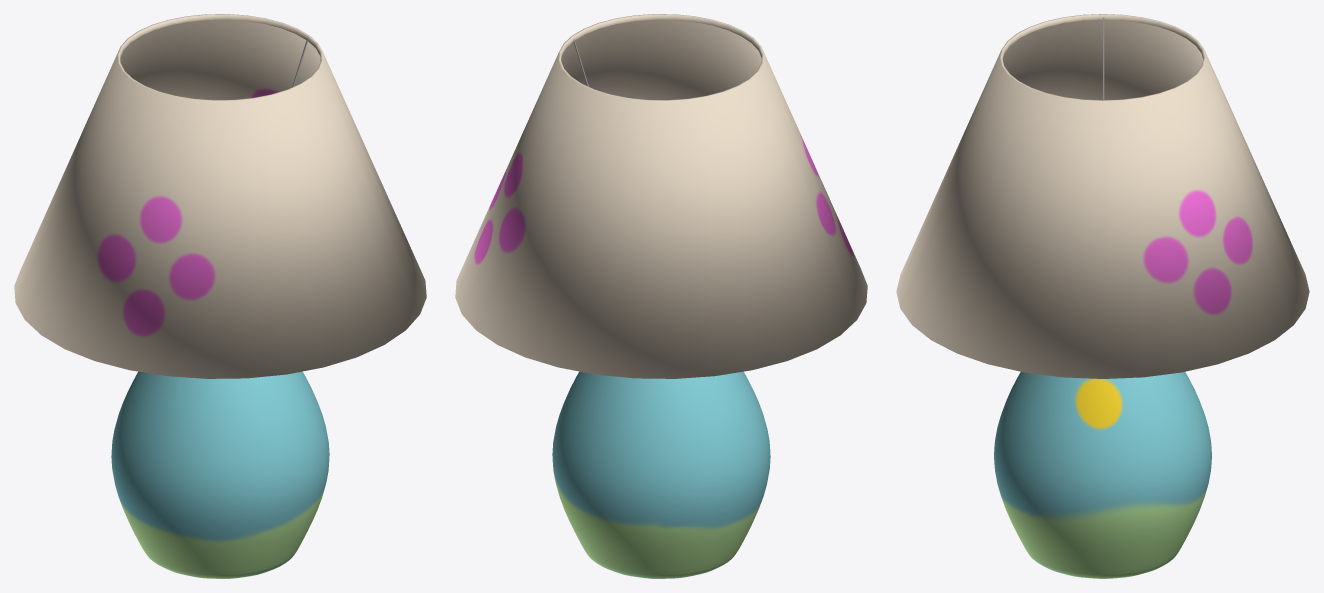
File: Lamp.fbx
3 views of the same model, side by side, from view 1: azimuth 30°, elevation 25°; view 2: azimuth 150°, elevation 25°; view 3: azimuth 270°, elevation 25° (orthographic).
Visible parts, largest first — view 1: Lampshade, Lamp_base; view 2: Lampshade, Lamp_base; view 3: Lampshade, Lamp_base.
Part boxes in pixels (bbox=[...]): Lampshade: bbox=[14, 14, 426, 378]; Lamp_base: bbox=[111, 371, 329, 578]; Lampshade: bbox=[455, 14, 867, 378]; Lamp_base: bbox=[552, 371, 770, 578]; Lampshade: bbox=[896, 14, 1309, 378]; Lamp_base: bbox=[994, 372, 1211, 578].
Bounding box in the file's own units: 32 × 41.93 × 32.
Materials: 5 (4 with a texture image).
